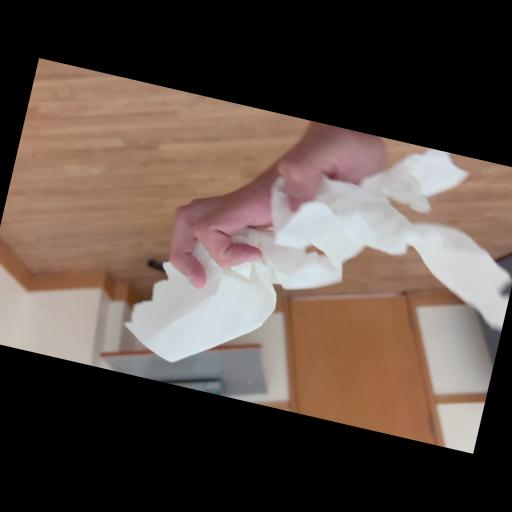napkin: (115, 89, 512, 433)
